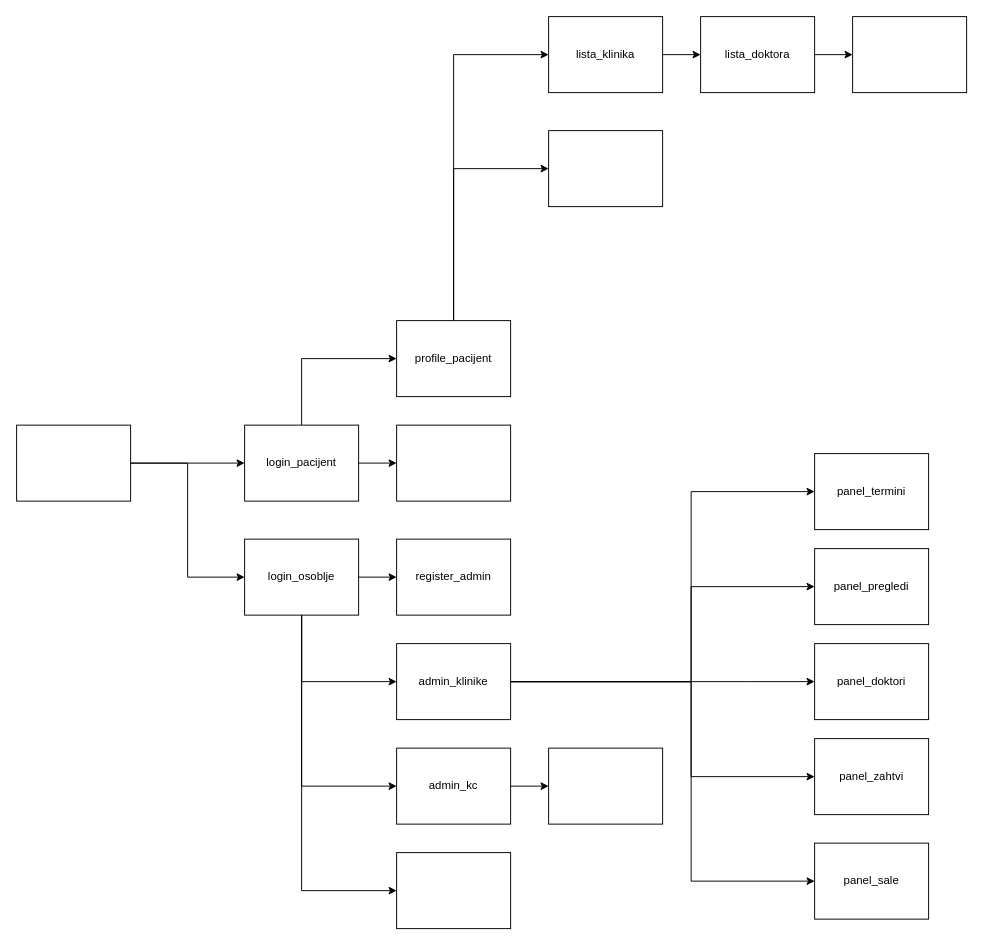
Some shapes in this 983 by 945 pixel diagram are drawn without their labels. Each missing label, with the box of its shape:
index: (16, 424, 131, 501)
mo_panel: (396, 852, 511, 929)
panel_zahtevi: (548, 747, 663, 824)
register_pacijent: (396, 424, 511, 501)
zahtev_pregled: (852, 16, 967, 93)
zdrastveni_karton: (548, 130, 663, 207)
